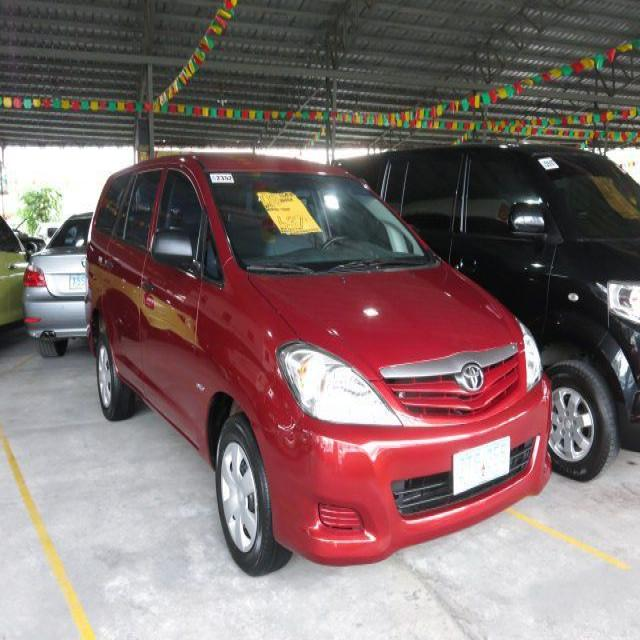light_vehicle: (83, 150, 554, 577)
